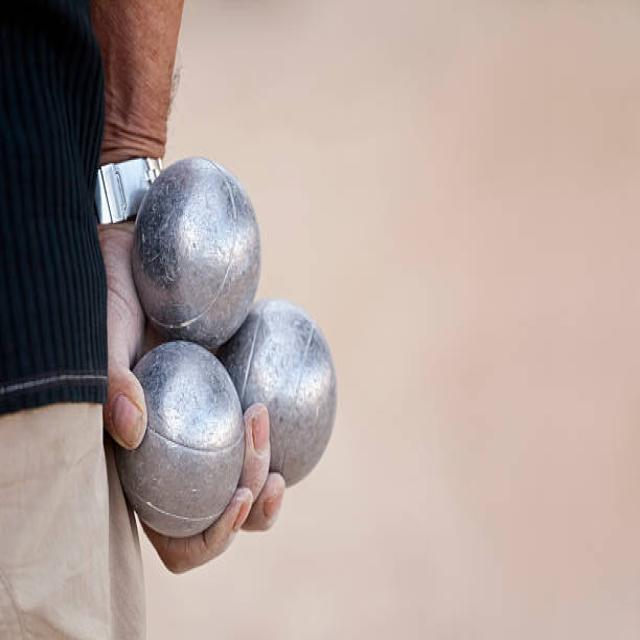petanque: (123, 146, 266, 360), (114, 338, 247, 557), (222, 287, 341, 489)
